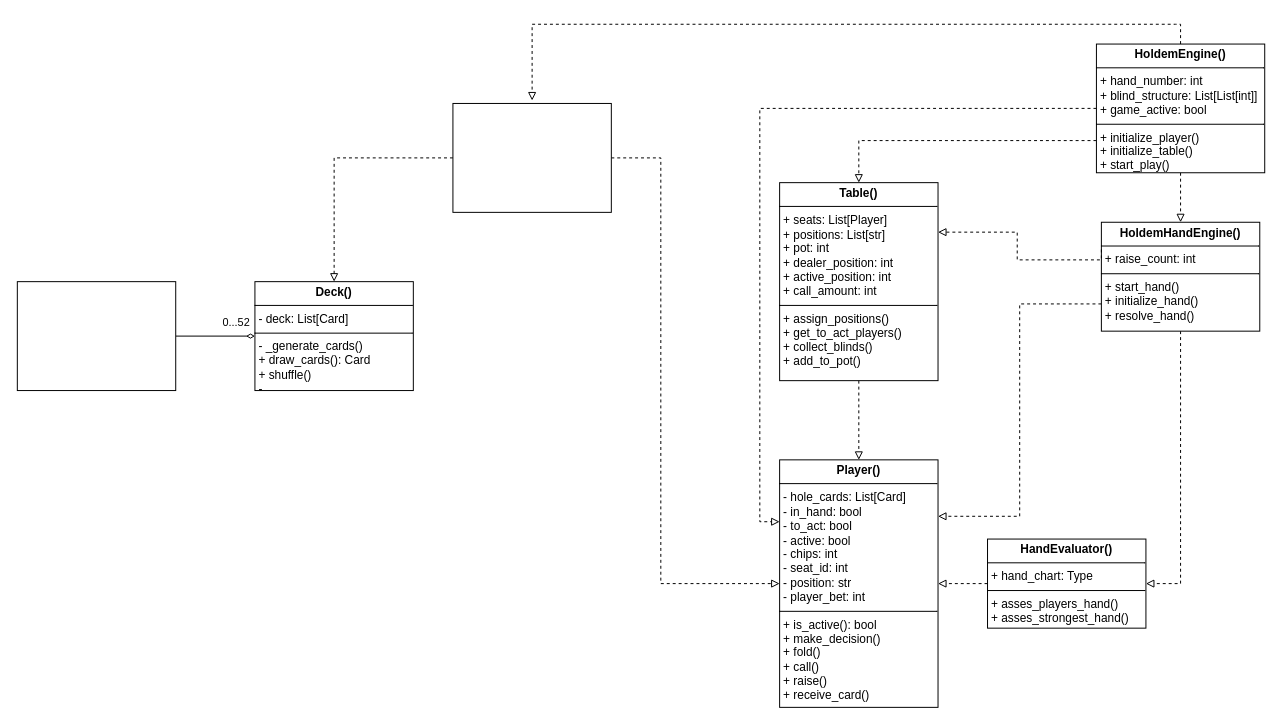
This 1282x725 diagram has some shape labels left out. Each missing label, with the box of its shape:
Card() - figure: chr - suit: str + get_figure() + get_suit(): (16, 281, 176, 391)
Dealer() - deck: Deck() + deal_ to_player() + deal_street() + burn_card(): (452, 102, 611, 212)
